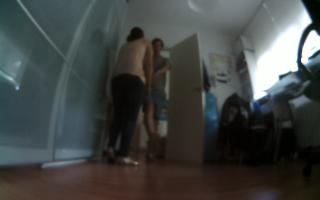person: (99, 25, 154, 173), (143, 30, 168, 163)
